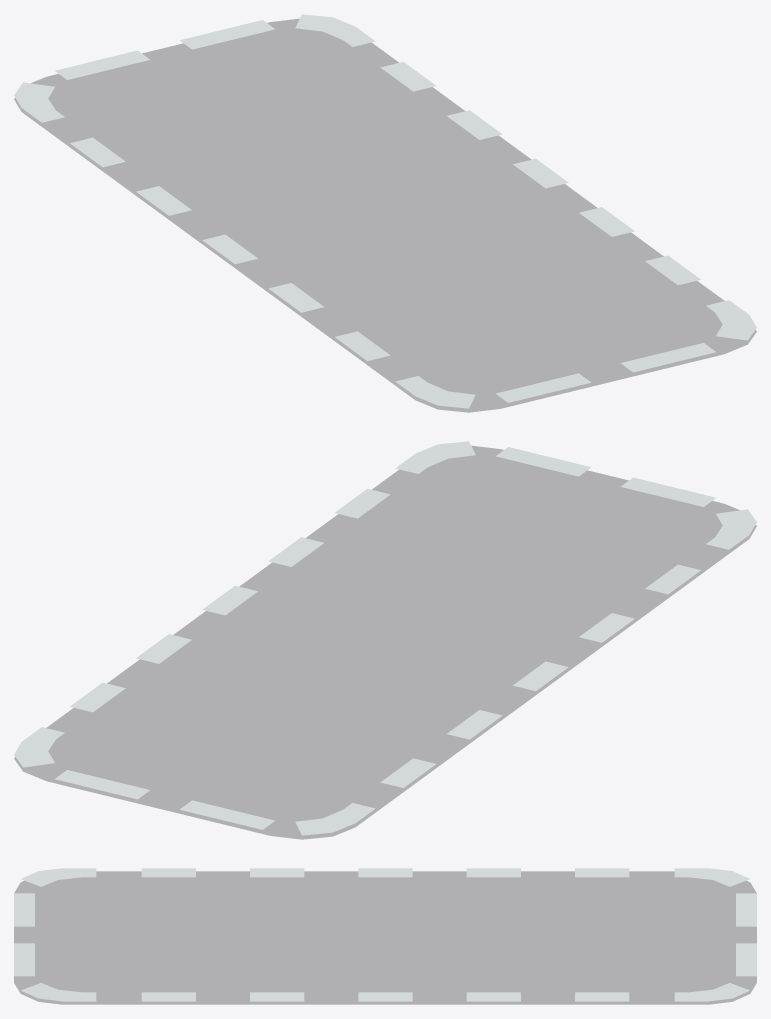
File: Parking_Open.fbx
The picture shows the model from 3 angles, top to bottom: view 1: azimuth 30°, elevation 25°; view 2: azimuth 150°, elevation 25°; view 3: azimuth 270°, elevation 25°; orthographic projection. The views are drawn at different scales.
Parts seen in each view (by area): view 1: Parking_Open; view 2: Parking_Open; view 3: Parking_Open.
Boxes of the visible parts, left/top/right/bottom form: Parking_Open: left=14, top=14, right=756, bottom=412; Parking_Open: left=14, top=441, right=756, bottom=839; Parking_Open: left=14, top=868, right=756, bottom=1004.
Size of the model in its own units: 152 by 1.75 by 358.
